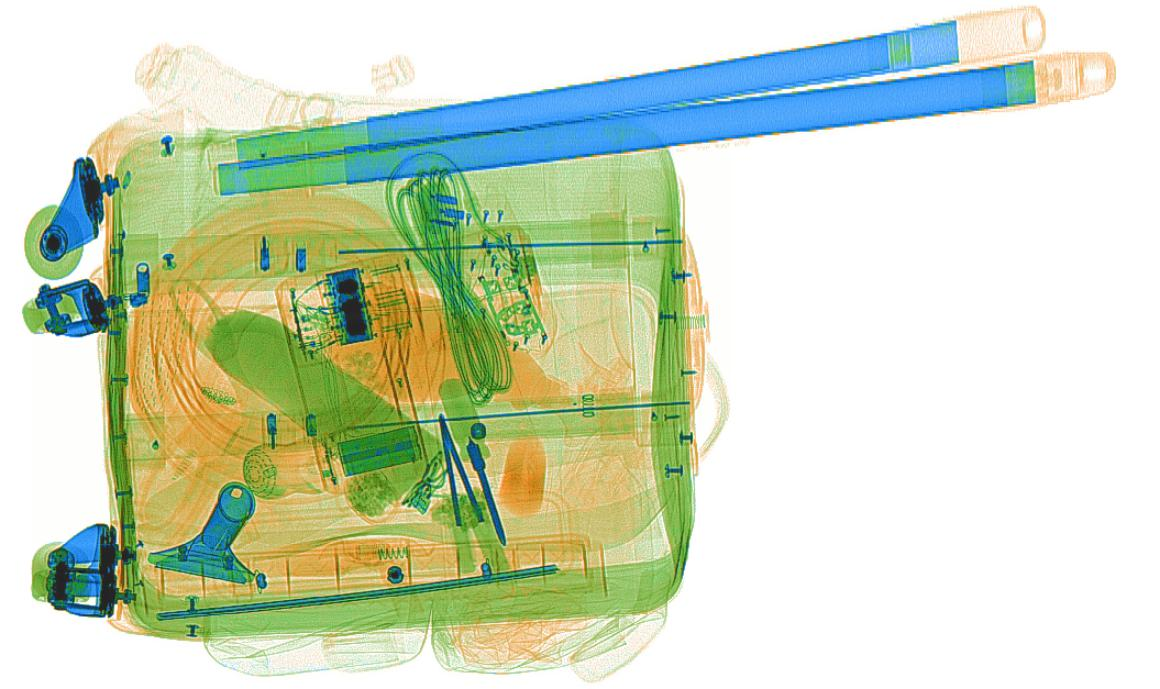battery: (337, 424, 427, 478)
plasticBottleWithaNozzle: (317, 279, 636, 444)
